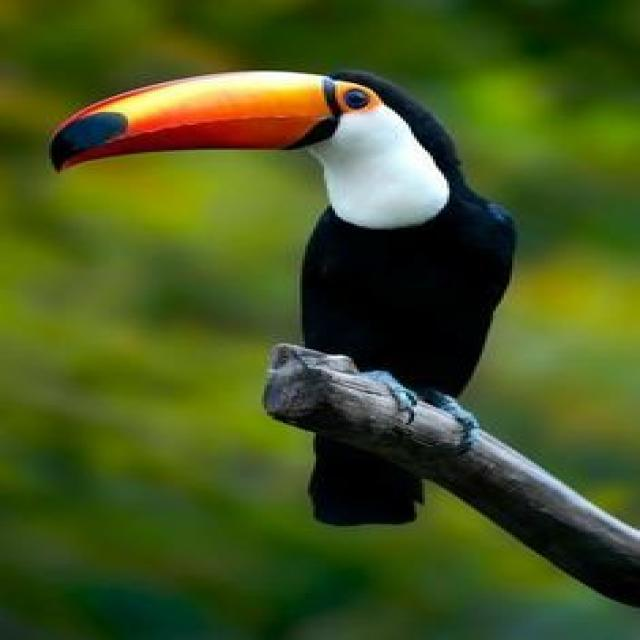Herbivorous: (49, 71, 517, 416), (305, 436, 428, 524)
